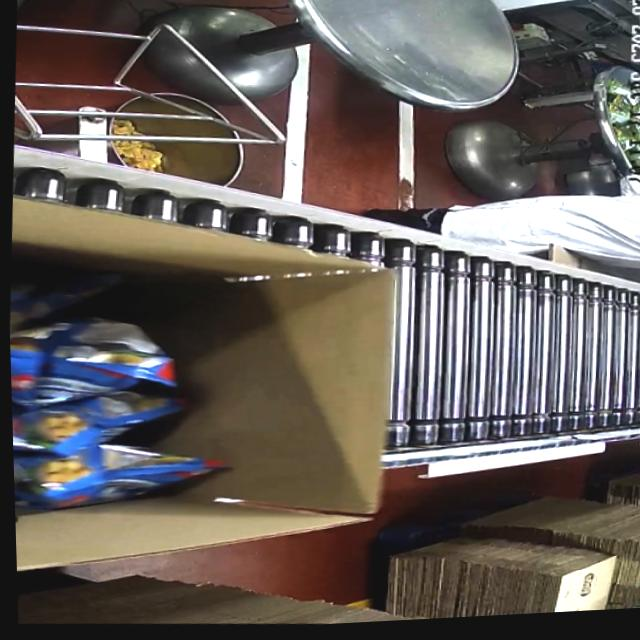PAPRIKA: (8, 259, 245, 545)
